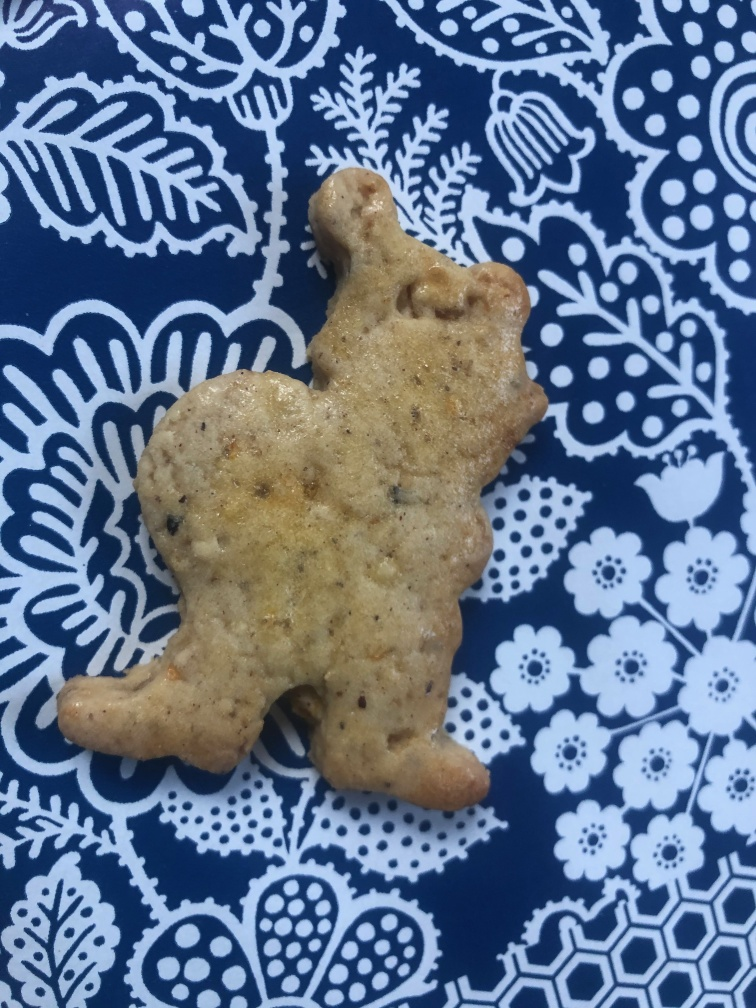santa claus: (50, 161, 548, 812)
